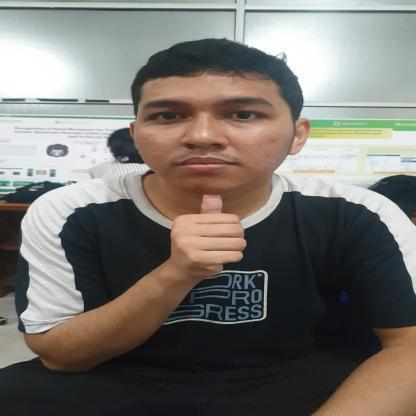Siapa: (162, 186, 254, 278)
